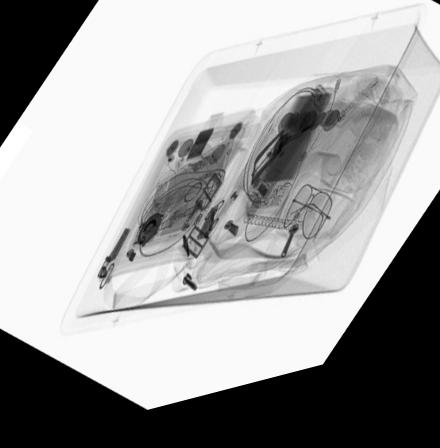Lighter: (336, 94, 379, 143)
